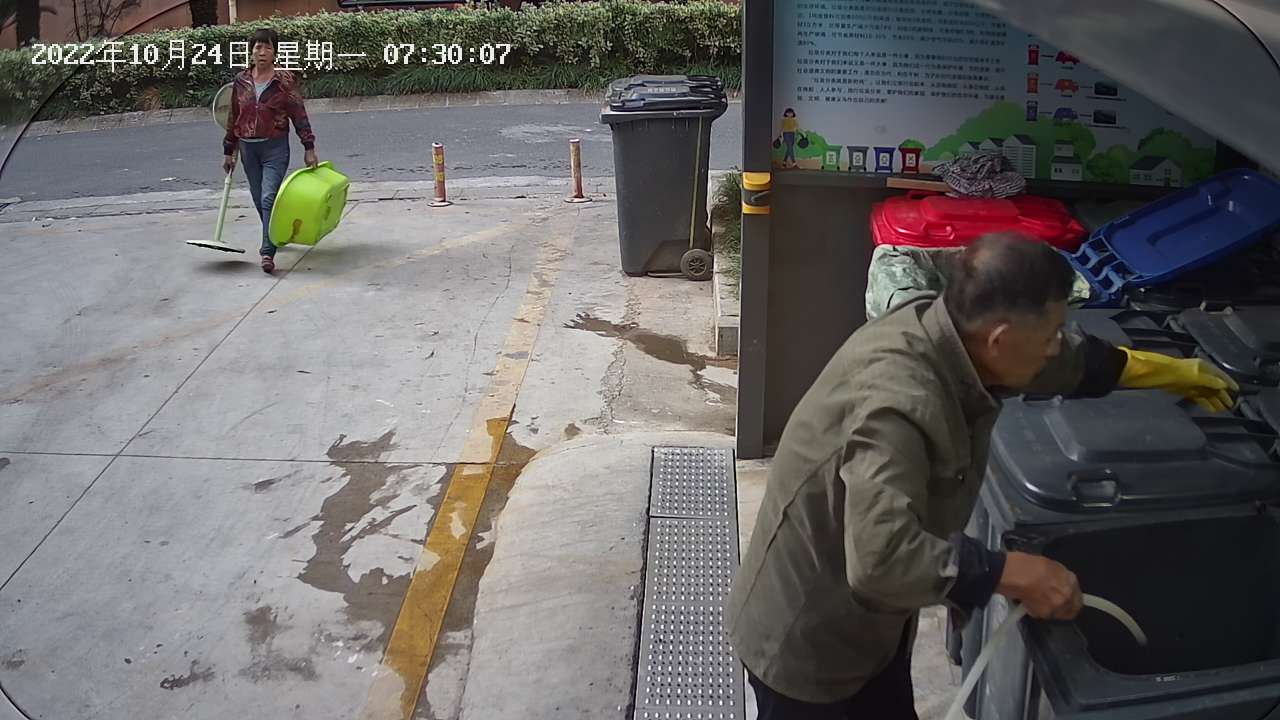person: (714, 225, 1247, 720), (220, 25, 324, 275)
